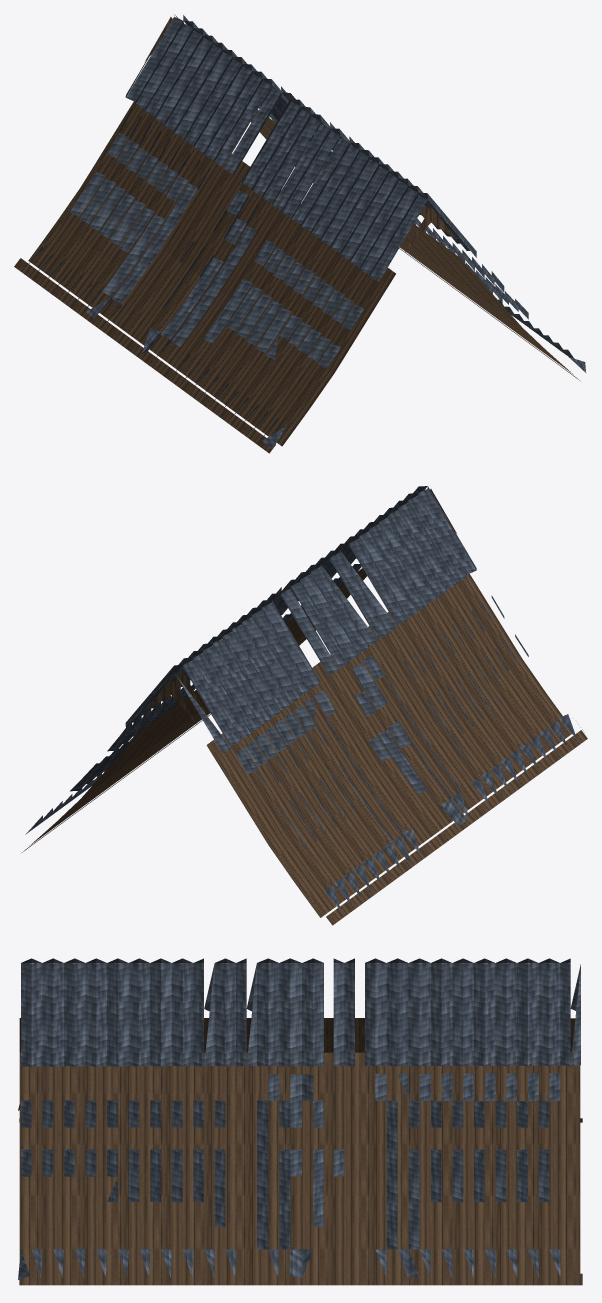
Rendered from Roof_Slate_8x12_LOD1.gltf.
The picture shows the model from 3 angles, top to bottom: view 1: azimuth 30°, elevation 25°; view 2: azimuth 150°, elevation 25°; view 3: azimuth 270°, elevation 25°; orthographic projection. The views are drawn at different scales.
Parts seen in each view (by area): view 1: Roof_Slate_8x12_LOD1; view 2: Roof_Slate_8x12_LOD1; view 3: Roof_Slate_8x12_LOD1.
Boxes of the visible parts, x1,y1,x2,y2 form: Roof_Slate_8x12_LOD1: (14, 14, 586, 453); Roof_Slate_8x12_LOD1: (22, 486, 587, 925); Roof_Slate_8x12_LOD1: (18, 958, 582, 1285).
Bounding box in the file's own units: 9.95 × 6.54 × 13.89.
Materials: 2 (2 with a texture image).
